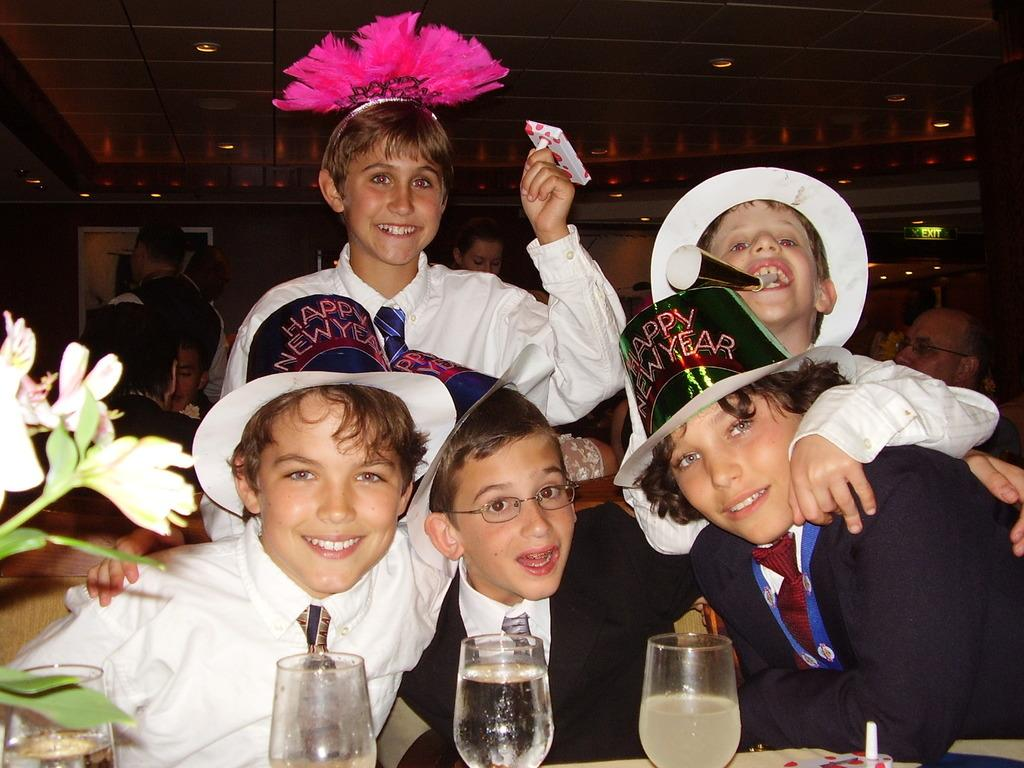Hat: (192, 290, 458, 516), (614, 284, 858, 488), (386, 350, 556, 572)
